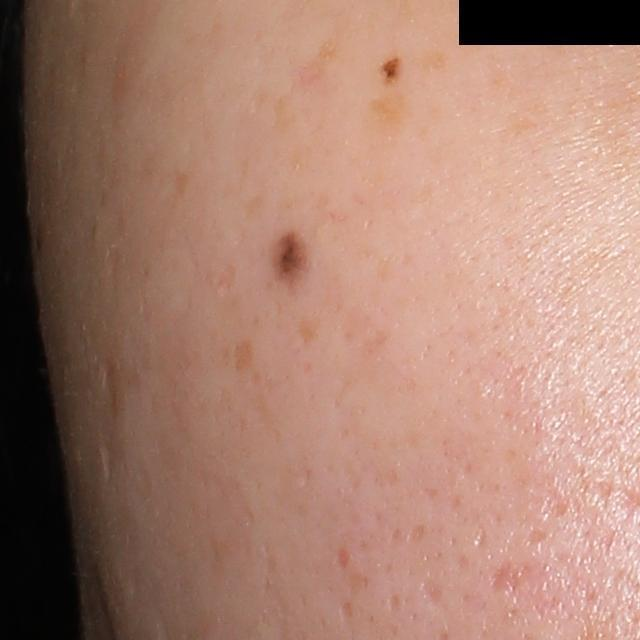atrophic_scar: (421, 578, 449, 606), (342, 602, 354, 624)
melasma: (310, 3, 371, 71), (372, 93, 408, 140), (231, 339, 258, 372), (418, 48, 449, 73), (173, 166, 192, 199)
nevus: (277, 232, 305, 281)
